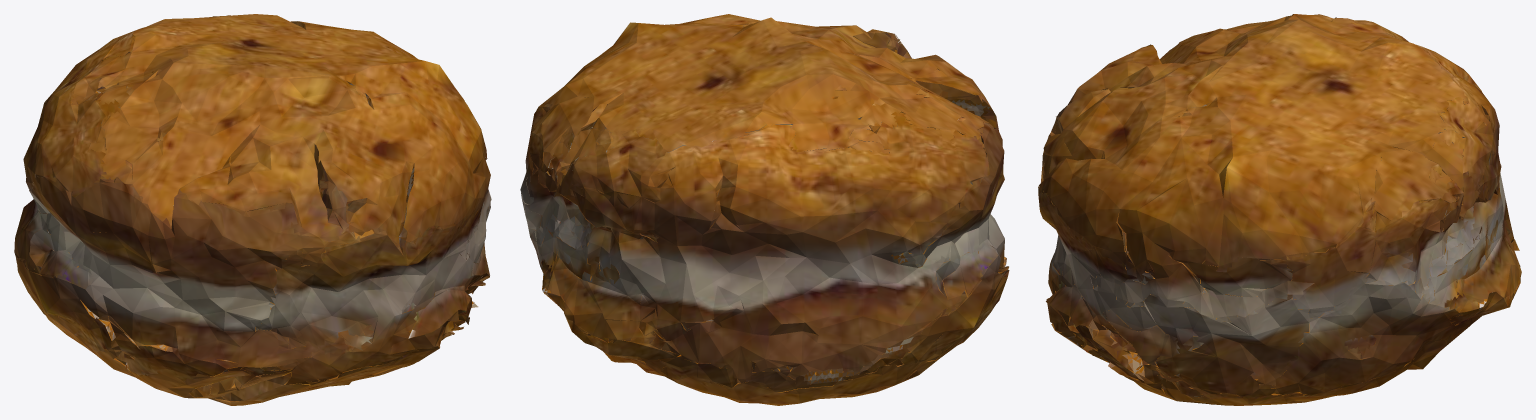
The model's file is mini-pumpkin-whoopie-pie.gltf.
3 views of the same model, side by side, from view 1: azimuth 30°, elevation 25°; view 2: azimuth 150°, elevation 25°; view 3: azimuth 270°, elevation 25° (orthographic). The views are drawn at different scales.
Visible parts, largest first — view 1: model_New Qlone_20221216_191121438; view 2: model_New Qlone_20221216_191121438; view 3: model_New Qlone_20221216_191121438.
Part boxes in pixels (x1=…): model_New Qlone_20221216_191121438: x1=14, y1=14, x2=491, y2=405; model_New Qlone_20221216_191121438: x1=520, y1=14, x2=1009, y2=405; model_New Qlone_20221216_191121438: x1=1038, y1=14, x2=1521, y2=405.
Bounding box in the file's own units: 5.05 × 3.44 × 5.09.
Materials: 1 (1 with a texture image).
